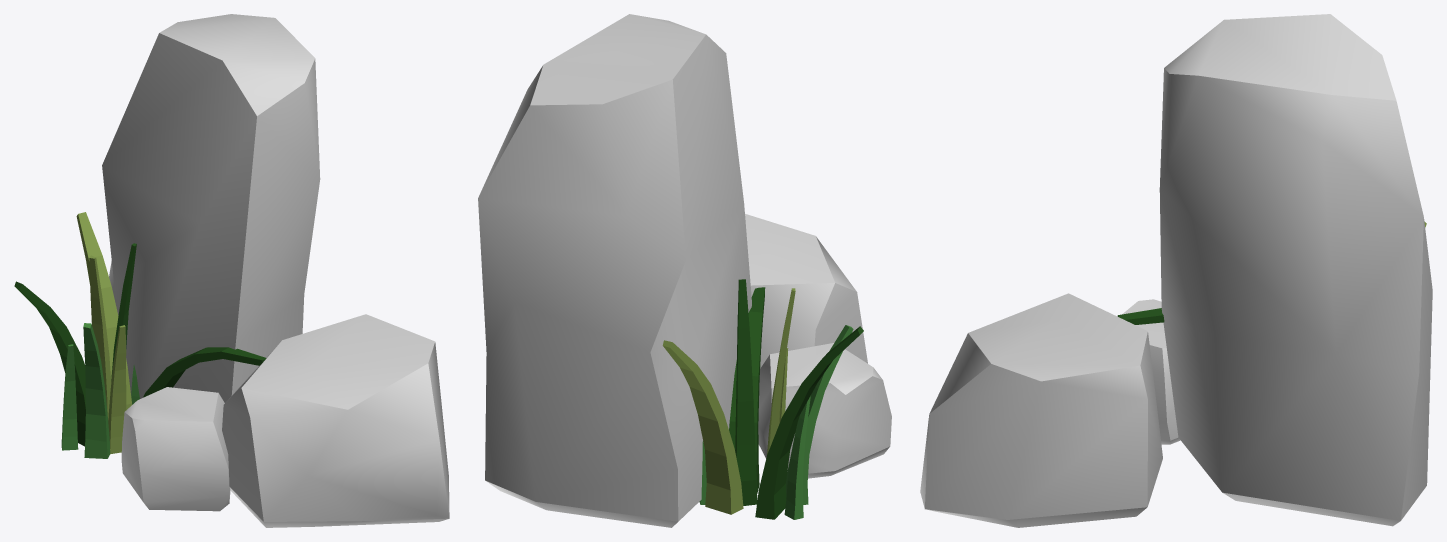
File: GrassandStone.fbx
The picture shows the model from 3 angles, left to right: view 1: azimuth 30°, elevation 25°; view 2: azimuth 150°, elevation 25°; view 3: azimuth 270°, elevation 25°; orthographic projection. The views are drawn at different scales.
Visible parts, largest first — view 1: Stone_4_Low.003, Stone_2_Low.018, Grass004.093, Stone_1_Low.031; view 2: Stone_4_Low.003, Grass004.093, Stone_2_Low.018, Stone_1_Low.031; view 3: Stone_4_Low.003, Stone_2_Low.018, Stone_1_Low.031.
Boxes of the visible parts, x1,y1,x2,y2 form: Stone_4_Low.003: [102, 14, 320, 402]; Stone_2_Low.018: [222, 314, 449, 527]; Grass004.093: [14, 212, 266, 458]; Stone_1_Low.031: [121, 387, 230, 511]; Stone_4_Low.003: [478, 14, 751, 527]; Grass004.093: [662, 279, 863, 519]; Stone_2_Low.018: [745, 214, 867, 368]; Stone_1_Low.031: [758, 343, 891, 478]; Stone_4_Low.003: [1159, 14, 1432, 526]; Stone_2_Low.018: [920, 293, 1162, 527]; Stone_1_Low.031: [1122, 299, 1180, 444].
Bounding box in the file's own units: 95.42 × 118 × 122.
